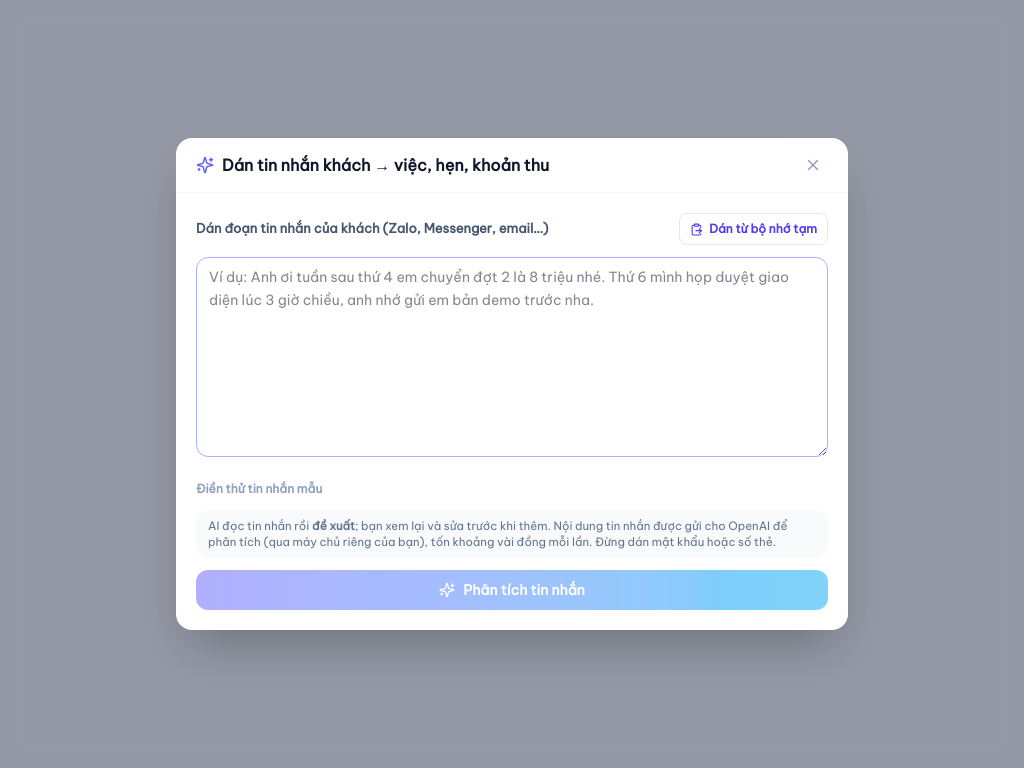
it: khung Dán tin nhắn khách › đổi khách của khoản thu → dự án chọn lại theo khách mới
Replace the text in the text box with id "msg-text" with "Tin nhắn của khách" at (512, 357), box [196,257,828,457]
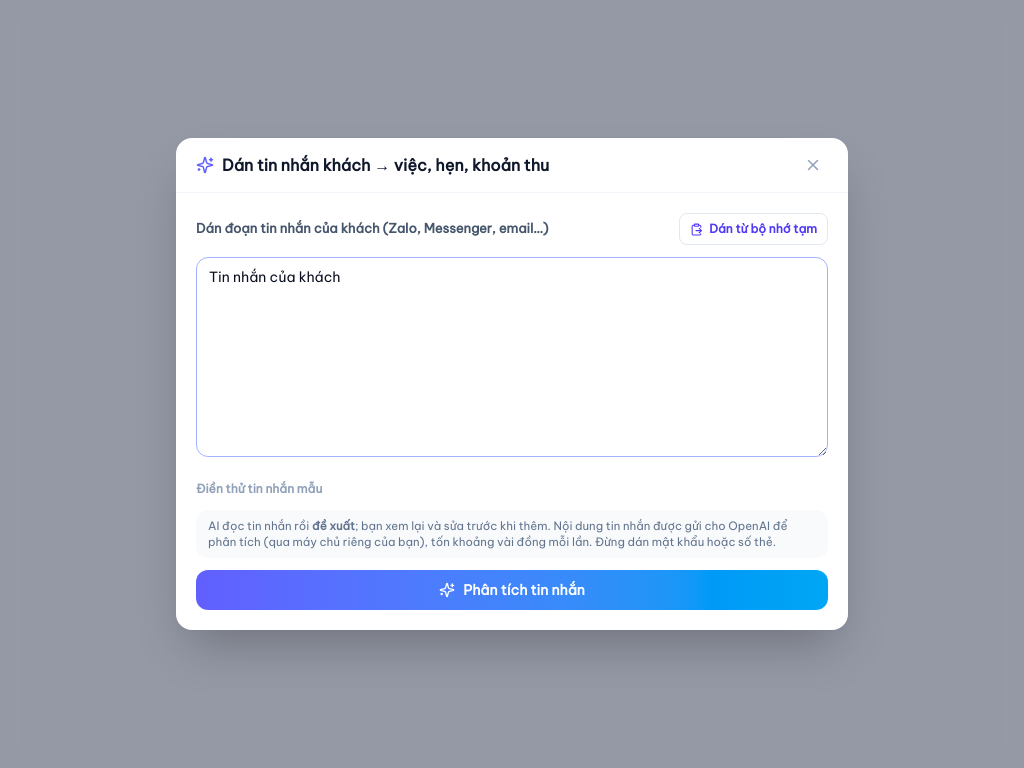
Click the button "Phân tích tin nhắn".
click(512, 590)  # box [196,570,828,610]
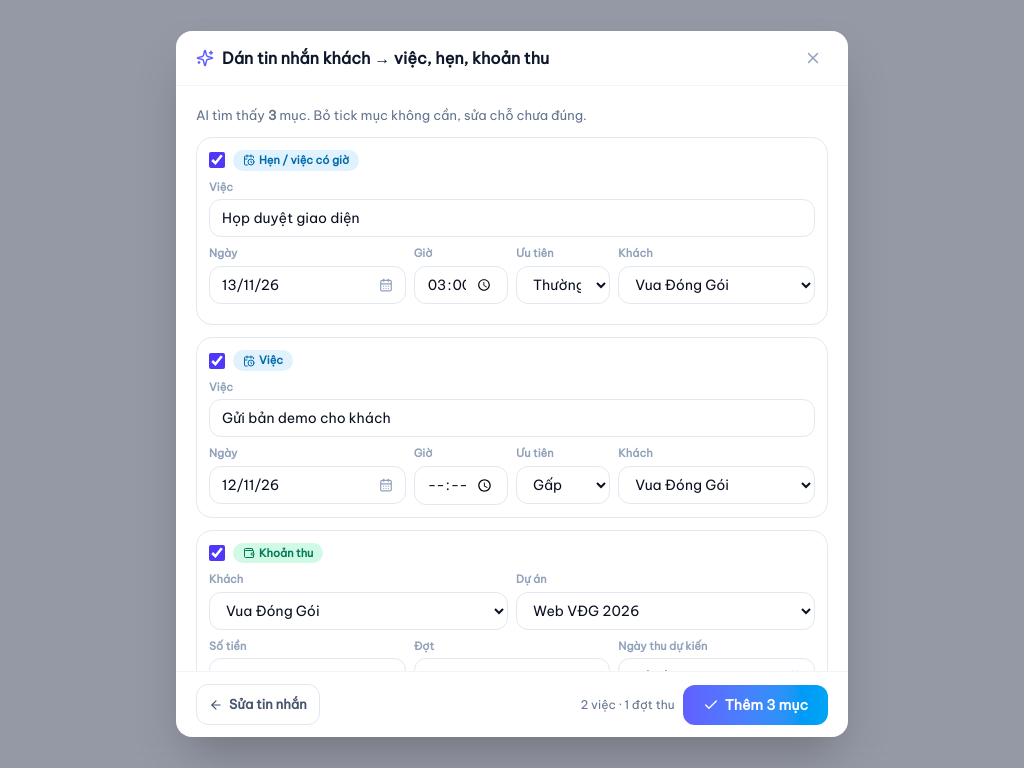
Select "Nhậu Phi Trường" in the dropdown named "Khách" below "Dự án" at (358, 611), box [209,592,508,630]
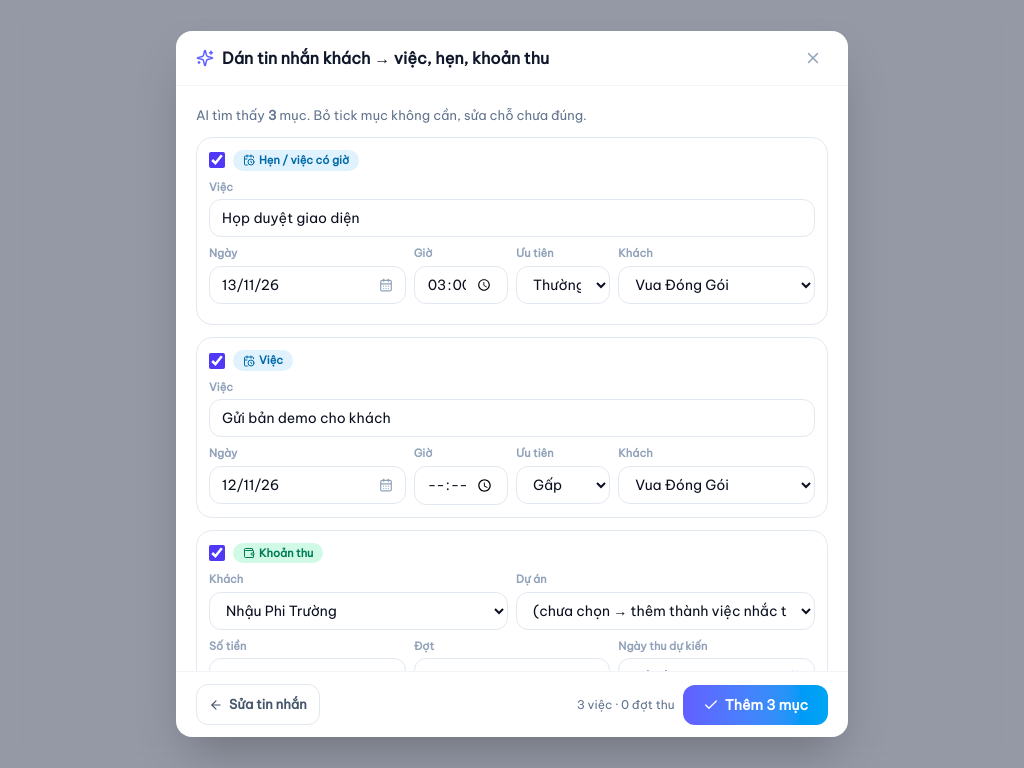
Expected: the dropdown named "Dự án" shows "(chưa chọn → thêm thành việc nhắc thu)", [516,592,815,630]
